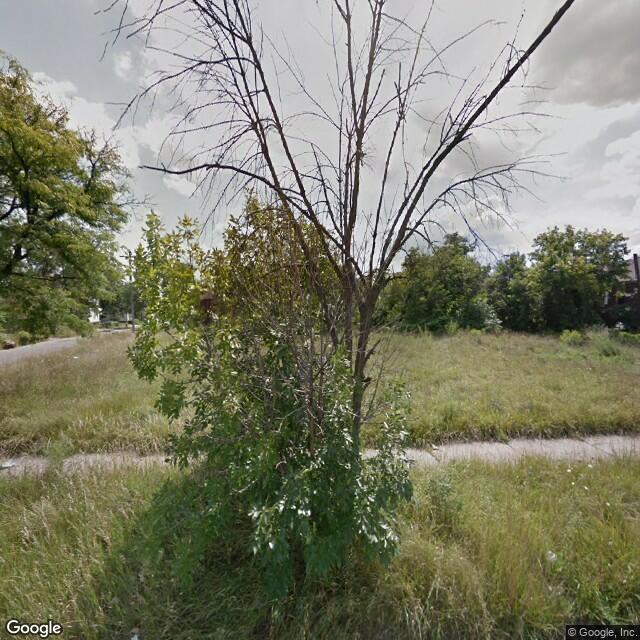litter: (1, 457, 17, 471), (73, 354, 80, 360)
